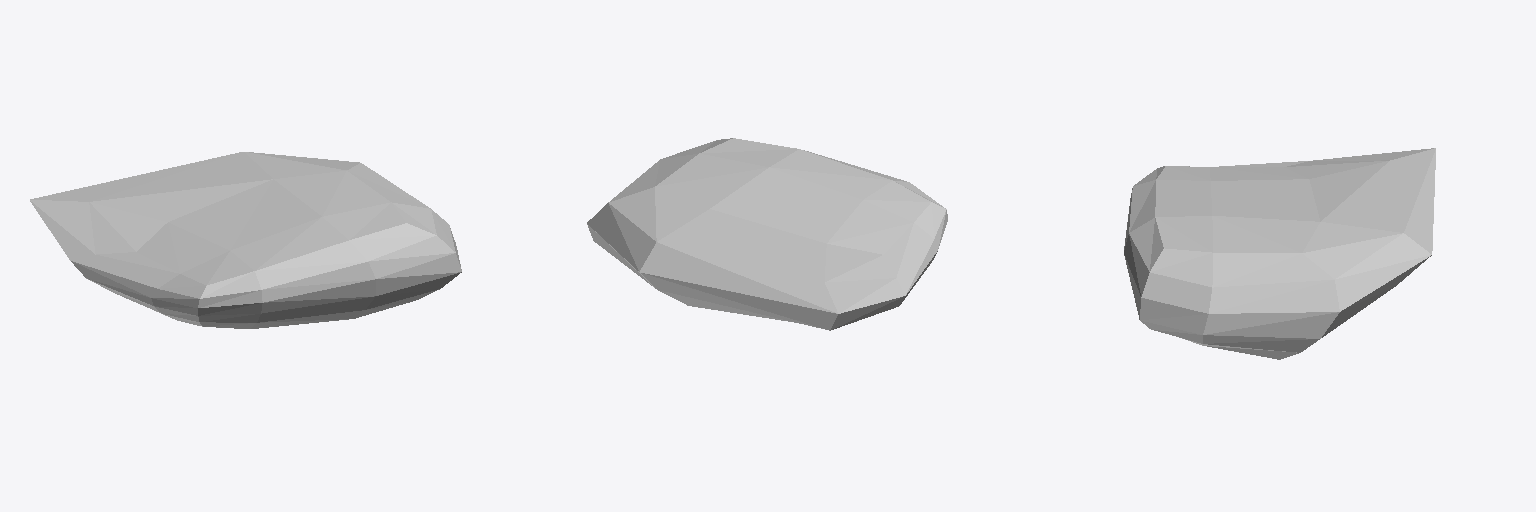
Rendered from PM3D_rock031_003.OBJ.
3 renders of one model, left to right at view 1: azimuth 30°, elevation 25°; view 2: azimuth 150°, elevation 25°; view 3: azimuth 270°, elevation 25°, orthographic.
Visible parts, largest first — view 1: Group38506; view 2: Group38506; view 3: Group38506.
Boxes of the visible parts, box(x1,y1,x2,y2) form: Group38506: box(30, 152, 461, 328); Group38506: box(587, 138, 947, 330); Group38506: box(1124, 148, 1435, 359).
Bounding box in the file's own units: 654 × 216 × 547.